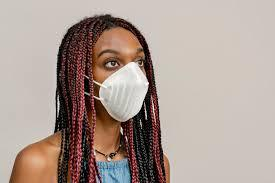Wearing Mask: (53, 17, 163, 150)
